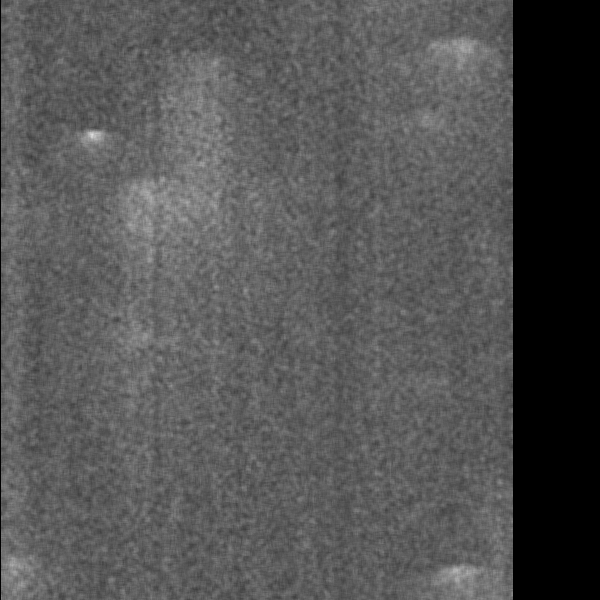spark: (104, 313, 135, 399)
